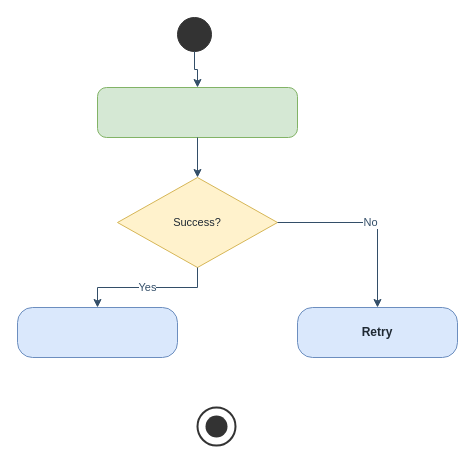
Some shapes in this 475 by 464 pixel diagram are drawn without their labels. Each missing label, with the box of its shape:
Do the work: (96, 86, 298, 138)
Done: (16, 306, 178, 358)
